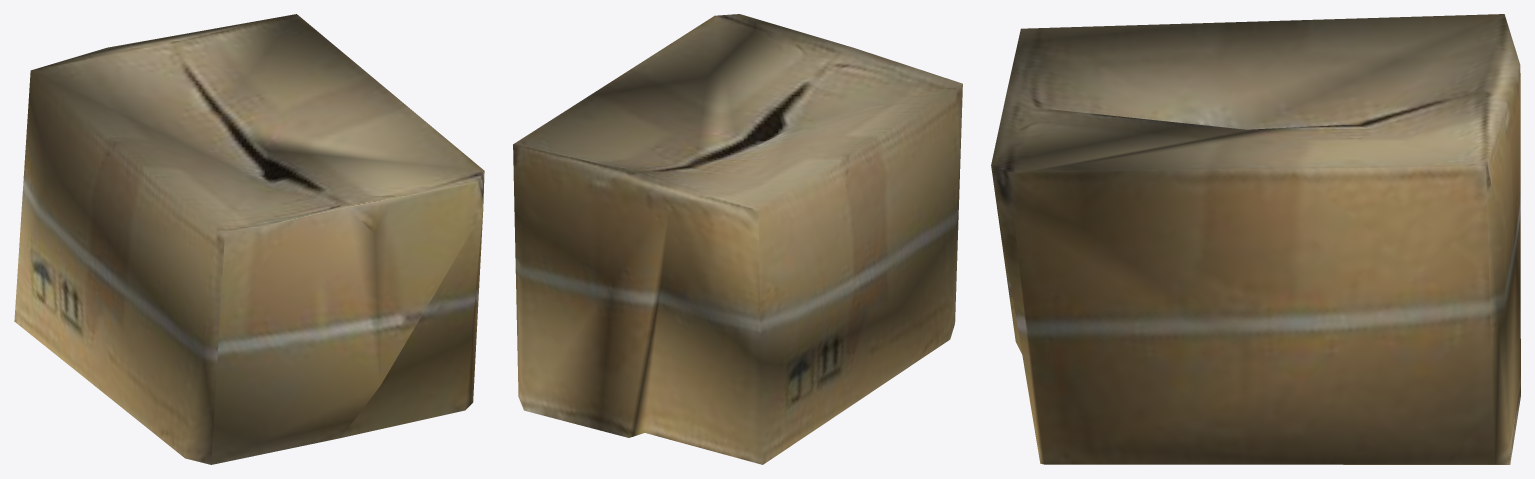
The model's file is cardboard_box_01.glb.
3 renders of one model, left to right at view 1: azimuth 30°, elevation 25°; view 2: azimuth 150°, elevation 25°; view 3: azimuth 270°, elevation 25°, orthographic. The views are drawn at different scales.
Parts seen in each view (by area): view 1: cardboard_box_01; view 2: cardboard_box_01; view 3: cardboard_box_01.
Part boxes in pixels (x1=…): cardboard_box_01: x1=14, y1=14, x2=484, y2=464; cardboard_box_01: x1=513, y1=14, x2=962, y2=464; cardboard_box_01: x1=991, y1=14, x2=1520, y2=464.
Size of the model in its own units: 0.3754 by 0.3322 by 0.5107.
1 material, 1 textured.
